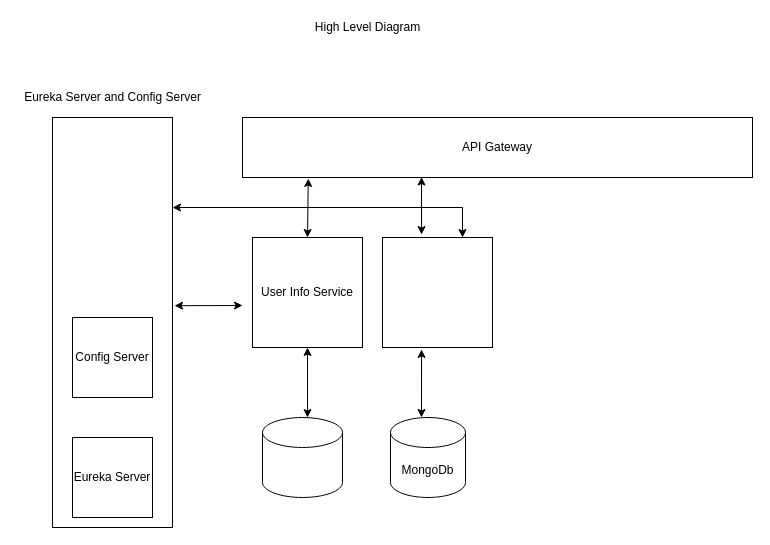
Some shapes in this 770 by 545 pixel diagram are drawn without their labels. The box of each missing label's shape, as (x1, y1, x2, y2) in pixels:
Article Management (Spring Boot): (382, 236, 492, 348)
PostgreSQL: (262, 416, 342, 498)
